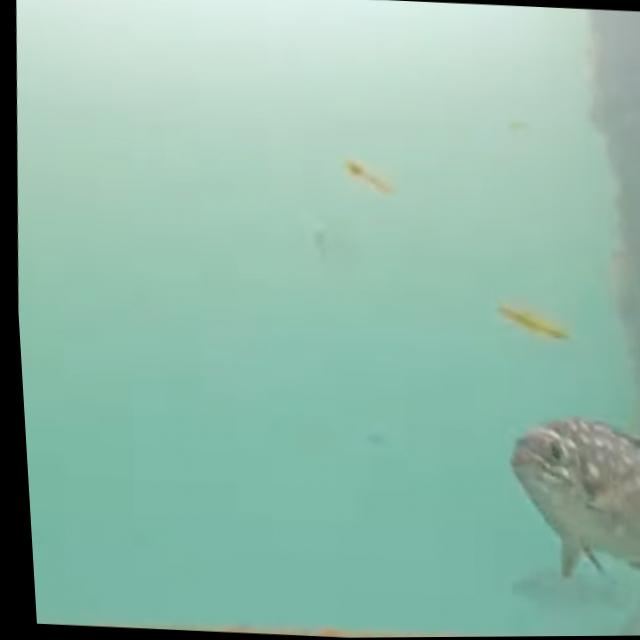fish: (488, 410, 640, 600)
